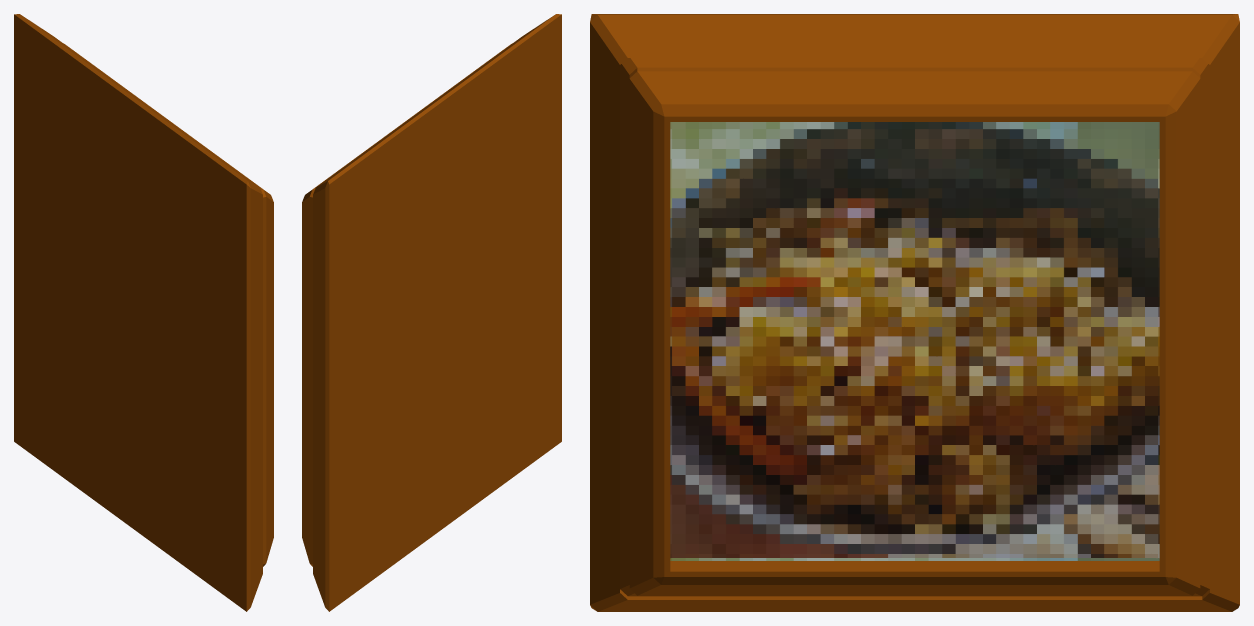
The model's file is Image_AcharangPapaya.glb.
The picture shows the model from 3 angles, left to right: view 1: azimuth 30°, elevation 25°; view 2: azimuth 150°, elevation 25°; view 3: azimuth 270°, elevation 25°; orthographic projection. The views are drawn at different scales.
Parts seen in each view (by area): view 1: Plane; view 2: Plane; view 3: Plane.
Boxes of the visible parts, x1,y1,x2,y2 form: Plane: (14,14,273,611); Plane: (302,14,561,611); Plane: (590,14,1239,611).
Size of the model in its own units: 0.0513 by 0.3996 by 0.3942.
2 materials, 1 textured.
